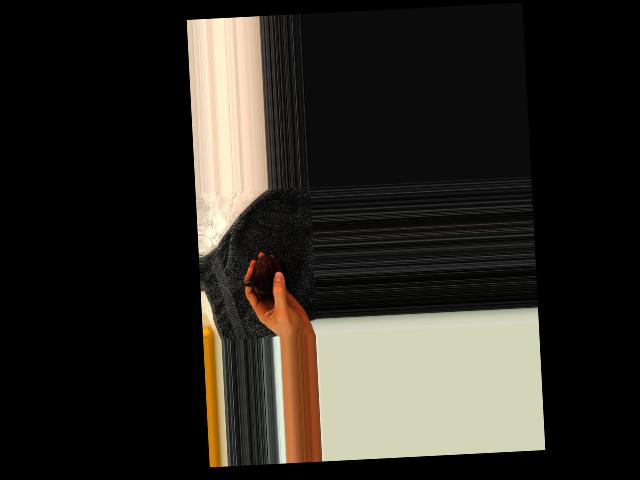beet: (224, 254, 288, 297)
